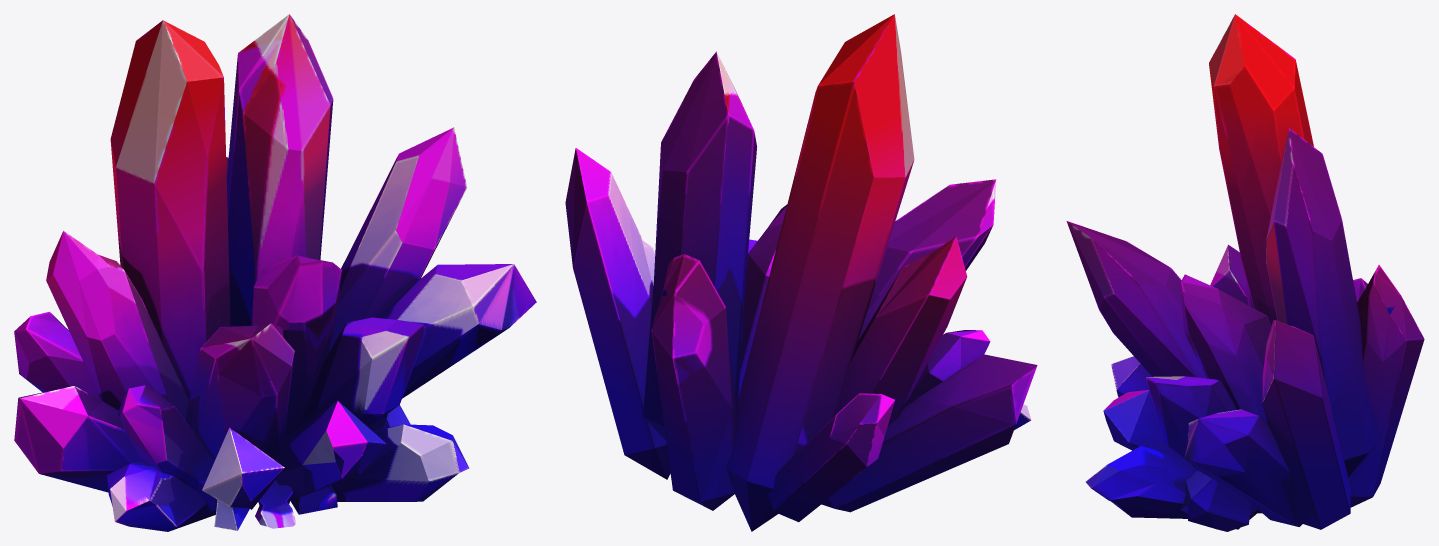
File: crystal01_Model.fbx
3 renders of one model, left to right at view 1: azimuth 30°, elevation 25°; view 2: azimuth 150°, elevation 25°; view 3: azimuth 270°, elevation 25°, orthographic. The views are drawn at different scales.
Visible parts, largest first — view 1: crystal17_2; view 2: crystal17_2; view 3: crystal17_2.
Boxes of the visible parts, x1,y1,x2,y2 form: crystal17_2: (14,14,536,531); crystal17_2: (565,14,1037,531); crystal17_2: (1066,14,1424,531).
Size of the model in its own units: 34.41 by 34.67 by 24.95.
Materials: 1 (1 with a texture image).
